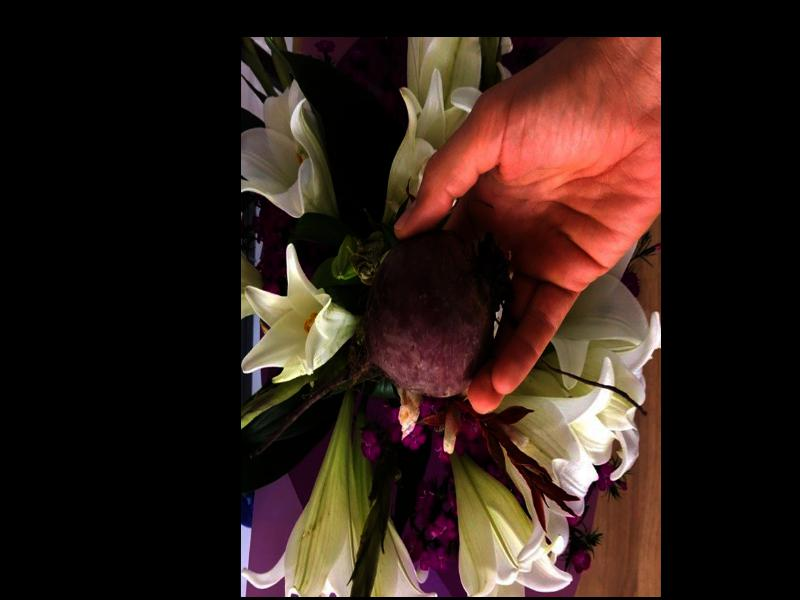Beet: (251, 230, 512, 460)
